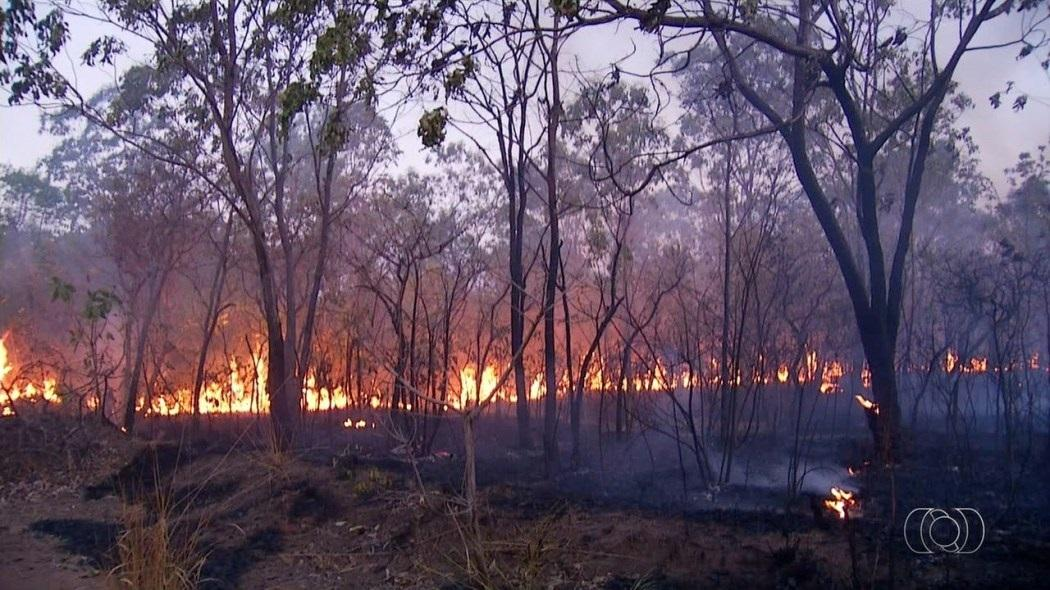fire: (0, 344, 514, 413)
